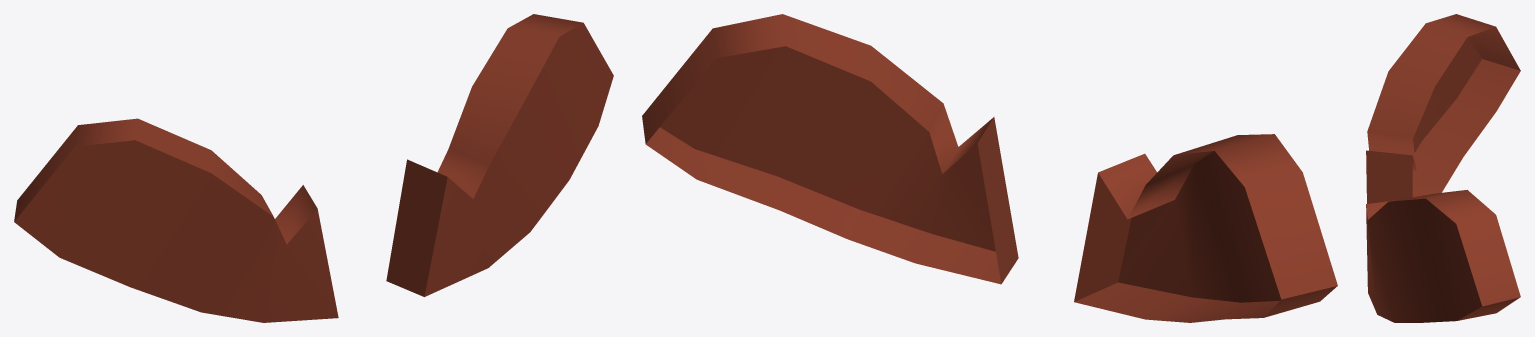
File: Brow_Brown_10.fbx
The picture shows the model from 3 angles, left to right: view 1: azimuth 30°, elevation 25°; view 2: azimuth 150°, elevation 25°; view 3: azimuth 270°, elevation 25°; orthographic projection. The views are drawn at different scales.
Parts seen in each view (by area): view 1: Brow_Brown_10; view 2: Brow_Brown_10; view 3: Brow_Brown_10.
Part boxes in pixels (bbox=[...]): Brow_Brown_10: bbox=[14, 14, 613, 322]; Brow_Brown_10: bbox=[642, 14, 1337, 322]; Brow_Brown_10: bbox=[1366, 14, 1520, 322].
Size of the model in its own units: 40.26 by 12.48 by 10.64.
